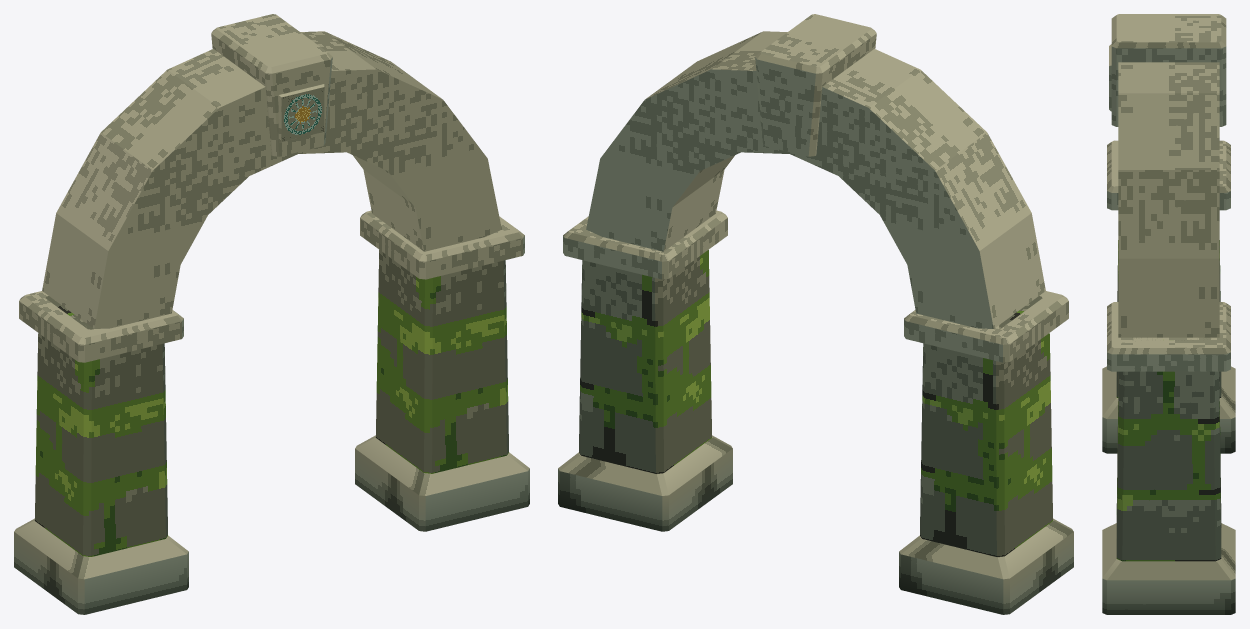
File: ruin.arch.glb
3 renders of one model, left to right at view 1: azimuth 30°, elevation 25°; view 2: azimuth 150°, elevation 25°; view 3: azimuth 270°, elevation 25°, orthographic. The views are drawn at different scales.
Parts seen in each view (by area): view 1: kit_piers, kit_ring, kit_keystone; view 2: kit_piers, kit_ring, kit_keystone; view 3: kit_piers, kit_ring, kit_keystone.
Boxes of the visible parts, x1,y1,x2,y2 form: kit_piers: (14,210,529,614); kit_ring: (42,31,501,328); kit_keystone: (211,14,332,156); kit_piers: (558,210,1073,614); kit_ring: (586,31,1045,328); kit_keystone: (755,14,876,156); kit_piers: (1102,140,1235,614); kit_ring: (1118,62,1219,337); kit_keystone: (1109,14,1226,126).
Size of the model in its own units: 5.3 by 5.55 by 1.4.
4 materials, 4 textured.
